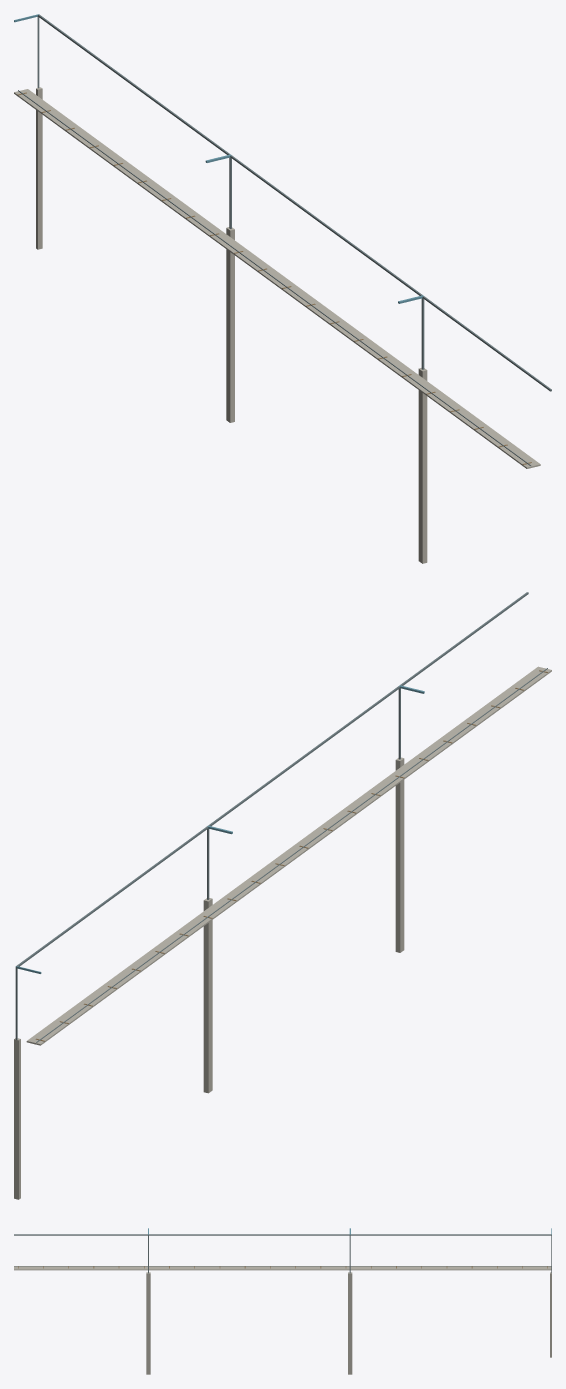
The model's file is valley-8-7.glb.
3 views of the same model, one above another, from view 1: azimuth 30°, elevation 25°; view 2: azimuth 150°, elevation 25°; view 3: azimuth 270°, elevation 25° (orthographic). The views are drawn at different scales.
Parts seen in each view (by area): view 1: valley-8-7; view 2: valley-8-7; view 3: valley-8-7.
Boxes of the visible parts, bbox=[...] form: valley-8-7: bbox=[14, 14, 551, 563]; valley-8-7: bbox=[14, 592, 551, 1199]; valley-8-7: bbox=[14, 1228, 551, 1374].
Size of the model in its own units: 7.7 by 73.25 by 256.
